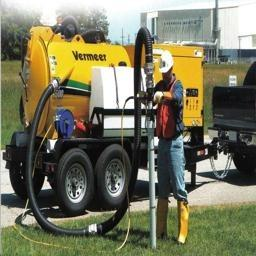hat: (155, 51, 176, 78)
low quality vest: (155, 81, 183, 139)
